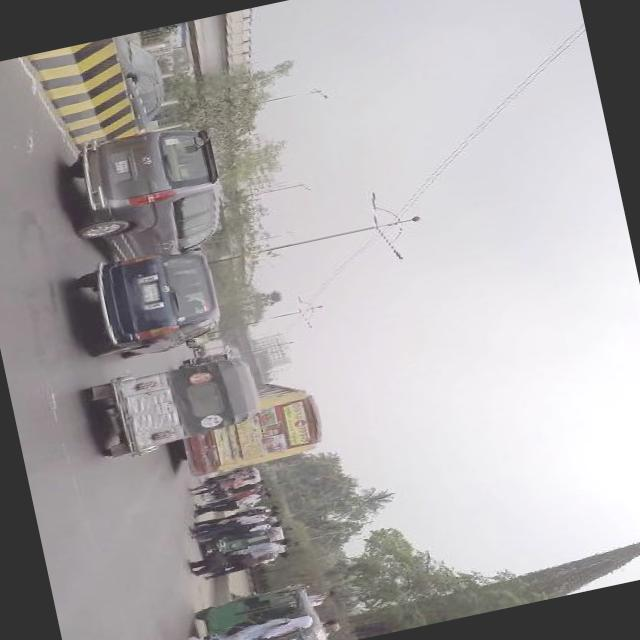bus: (172, 380, 322, 479)
car: (76, 242, 224, 369), (110, 34, 172, 134)
motorcycle: (85, 354, 258, 463), (192, 581, 325, 640)
truck: (59, 114, 236, 268), (196, 338, 226, 358)
